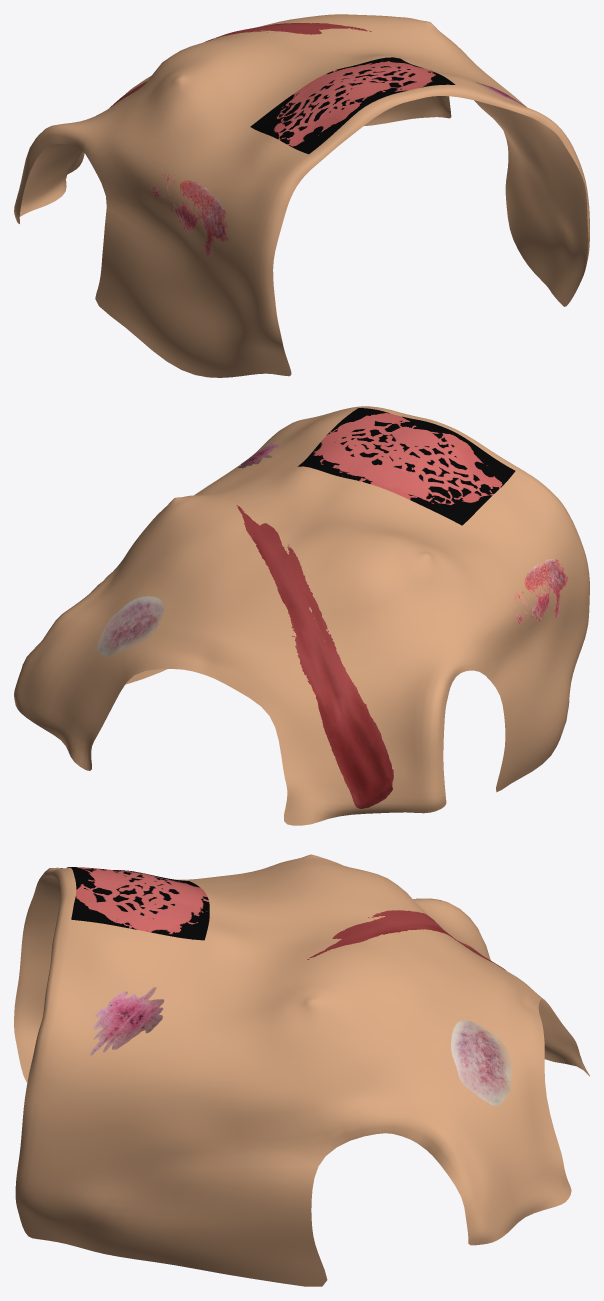
The model's file is Manichino_Retopo 1 (1).fbx.
3 views of the same model, one above another, from view 1: azimuth 30°, elevation 25°; view 2: azimuth 150°, elevation 25°; view 3: azimuth 270°, elevation 25° (orthographic). The views are drawn at different scales.
Visible parts, largest first — view 1: Torso_Manichino, Marezzatura, Abrasione2, Segno_Cintura; view 2: Torso_Manichino, Marezzatura, Segno_Cintura, Livido, Abrasione2; view 3: Torso_Manichino, Marezzatura, Livido, Abrasione1, Segno_Cintura.
Part boxes in pixels (left/top/right/bottom): Torso_Manichino: left=14, top=14, right=589, bottom=377; Marezzatura: left=250, top=57, right=455, bottom=154; Abrasione2: left=151, top=172, right=228, bottom=258; Segno_Cintura: left=110, top=23, right=371, bottom=107; Torso_Manichino: left=14, top=406, right=589, bottom=825; Marezzatura: left=298, top=408, right=515, bottom=525; Segno_Cintura: left=236, top=505, right=393, bottom=808; Livido: left=97, top=596, right=163, bottom=656; Abrasione2: left=513, top=559, right=568, bottom=624; Torso_Manichino: left=14, top=854, right=589, bottom=1286; Marezzatura: left=61, top=867, right=209, bottom=940; Livido: left=451, top=1020, right=511, bottom=1105; Abrasione1: left=90, top=987, right=164, bottom=1055; Segno_Cintura: left=307, top=910, right=505, bottom=970.
Size of the model in its own units: 42.34 by 24.78 by 42.73.
Materials: 6 (5 with a texture image).
